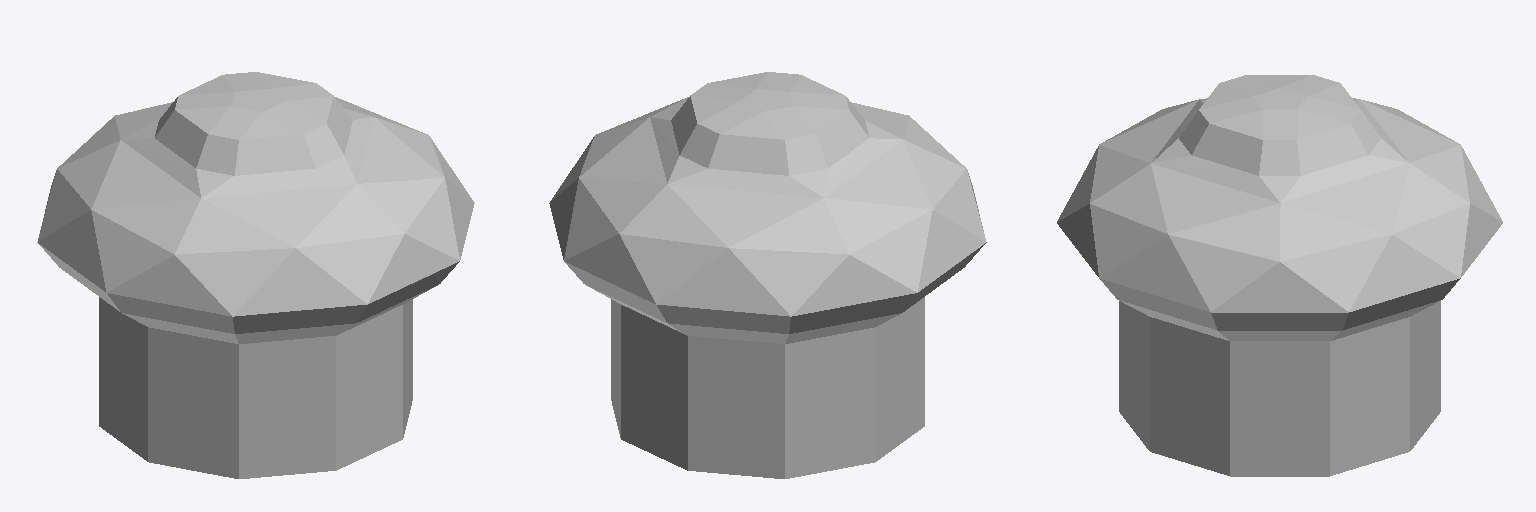
File: Jewel Bumper.obj
3 renders of one model, left to right at view 1: azimuth 30°, elevation 25°; view 2: azimuth 150°, elevation 25°; view 3: azimuth 270°, elevation 25°, orthographic.
Visible parts, largest first — view 1: Icosphere; view 2: Icosphere; view 3: Icosphere.
Part boxes in pixels (x1,y1,x2,y2): Icosphere: (37, 72, 474, 478); Icosphere: (549, 72, 986, 478); Icosphere: (1057, 75, 1502, 476).
Size of the model in its own units: 1.43 by 1.15 by 1.5.